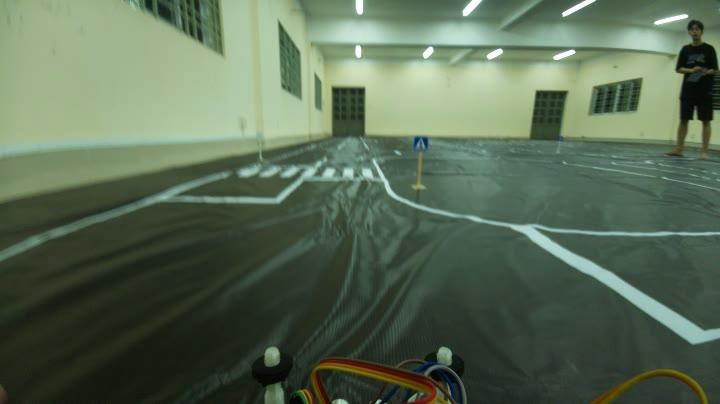crosswalk: (409, 131, 433, 153)
